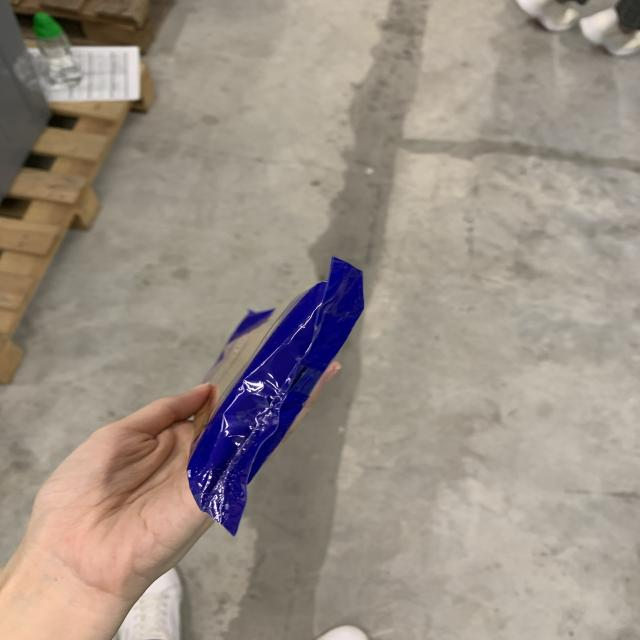object_name: (189, 307, 344, 507)
